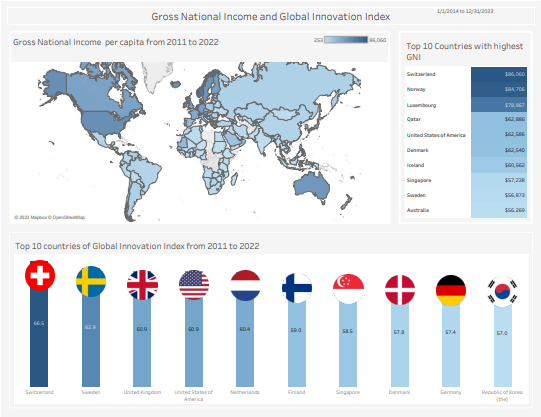

The dashboard page shown, as its layout file describes it:
{"tool":"tableau","page":{"name":"Dashboard 1","canvas":[1300,1000],"ordinal":0},"visuals":[{"type":"title","box":[10,10,1280,52]},{"type":"filter","title":"Sheet 1","param":"[federated.0sh8v3w1xqdo5316nr0xr04ndjui].[none:Year:qk]","box":[1045,26,218,35]},{"type":"worksheet","title":"Sheet 1","mark":"Automatic","box":[10,62,936.5,484.7]},{"type":"worksheet","title":"Sheet 3","mark":"Square","rows":["Country"],"box":[946.5,62,343.5,484.7]},{"type":"legend","title":"Sheet 1","param":"[federated.0sh8v3w1xqdo5316nr0xr04ndjui].[avg:GNI Per Capita:qk]","box":[750.1,81.2,182,95]},{"type":"worksheet","title":"Sheet 2","mark":"Automatic","rows":["Global Innovation Index","Global Innovation Index"],"cols":["Country"],"box":[10,546.7,1280,443.3]}]}

Visuals, with their boxes in screenshot pixels (x1, y1, x2, y2), scaled from the page's 1300x1000 canvas onto the 541x417 screenshot:
title: 4:4:537:26
"Sheet 1" filter: 435:11:526:25
"Sheet 1" worksheet: 4:26:394:228
"Sheet 3" worksheet (Square marks): 394:26:537:228
"Sheet 1" legend: 312:34:388:73
"Sheet 2" worksheet: 4:228:537:413
